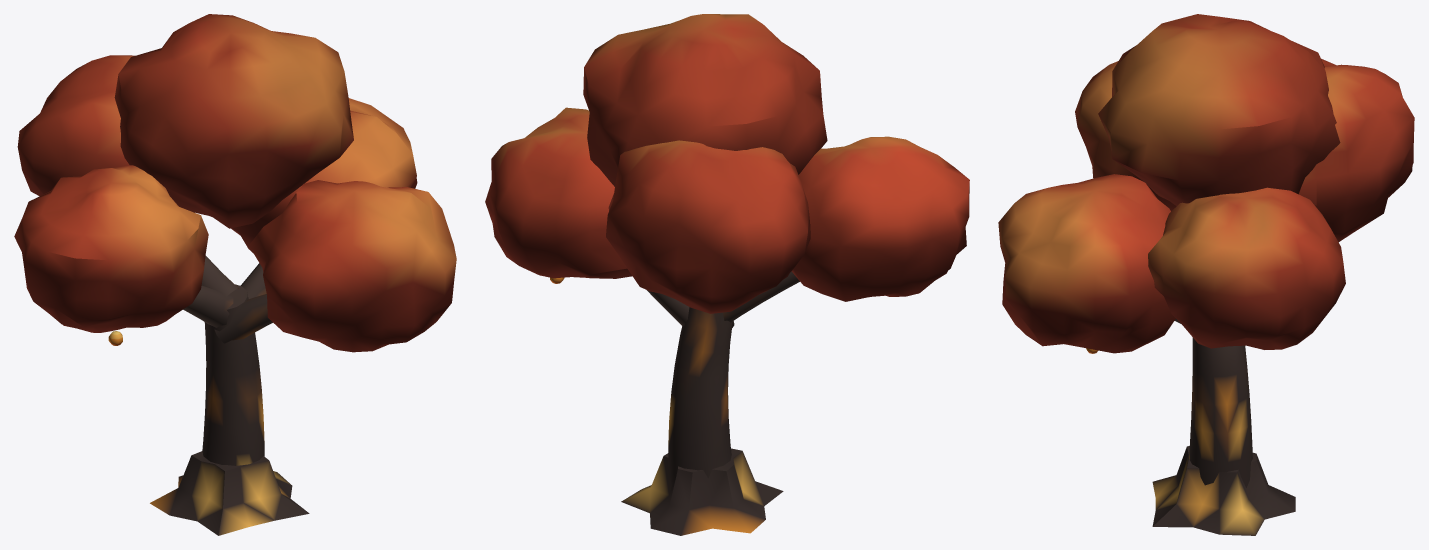
The model's file is EmberTreeA.fbx.
3 renders of one model, left to right at view 1: azimuth 30°, elevation 25°; view 2: azimuth 150°, elevation 25°; view 3: azimuth 270°, elevation 25°, orthographic.
Parts seen in each view (by area): view 1: Canopy, Trunk; view 2: Canopy, Trunk; view 3: Canopy, Trunk.
Boxes of the visible parts, x1,y1,x2,y2 form: Canopy: (14,14,456,352); Trunk: (150,255,309,535); Canopy: (485,14,969,313); Trunk: (621,271,799,535); Canopy: (998,14,1414,353); Trunk: (1152,319,1295,535).
Bounding box in the file's own units: 3.04 × 3.22 × 2.56.
